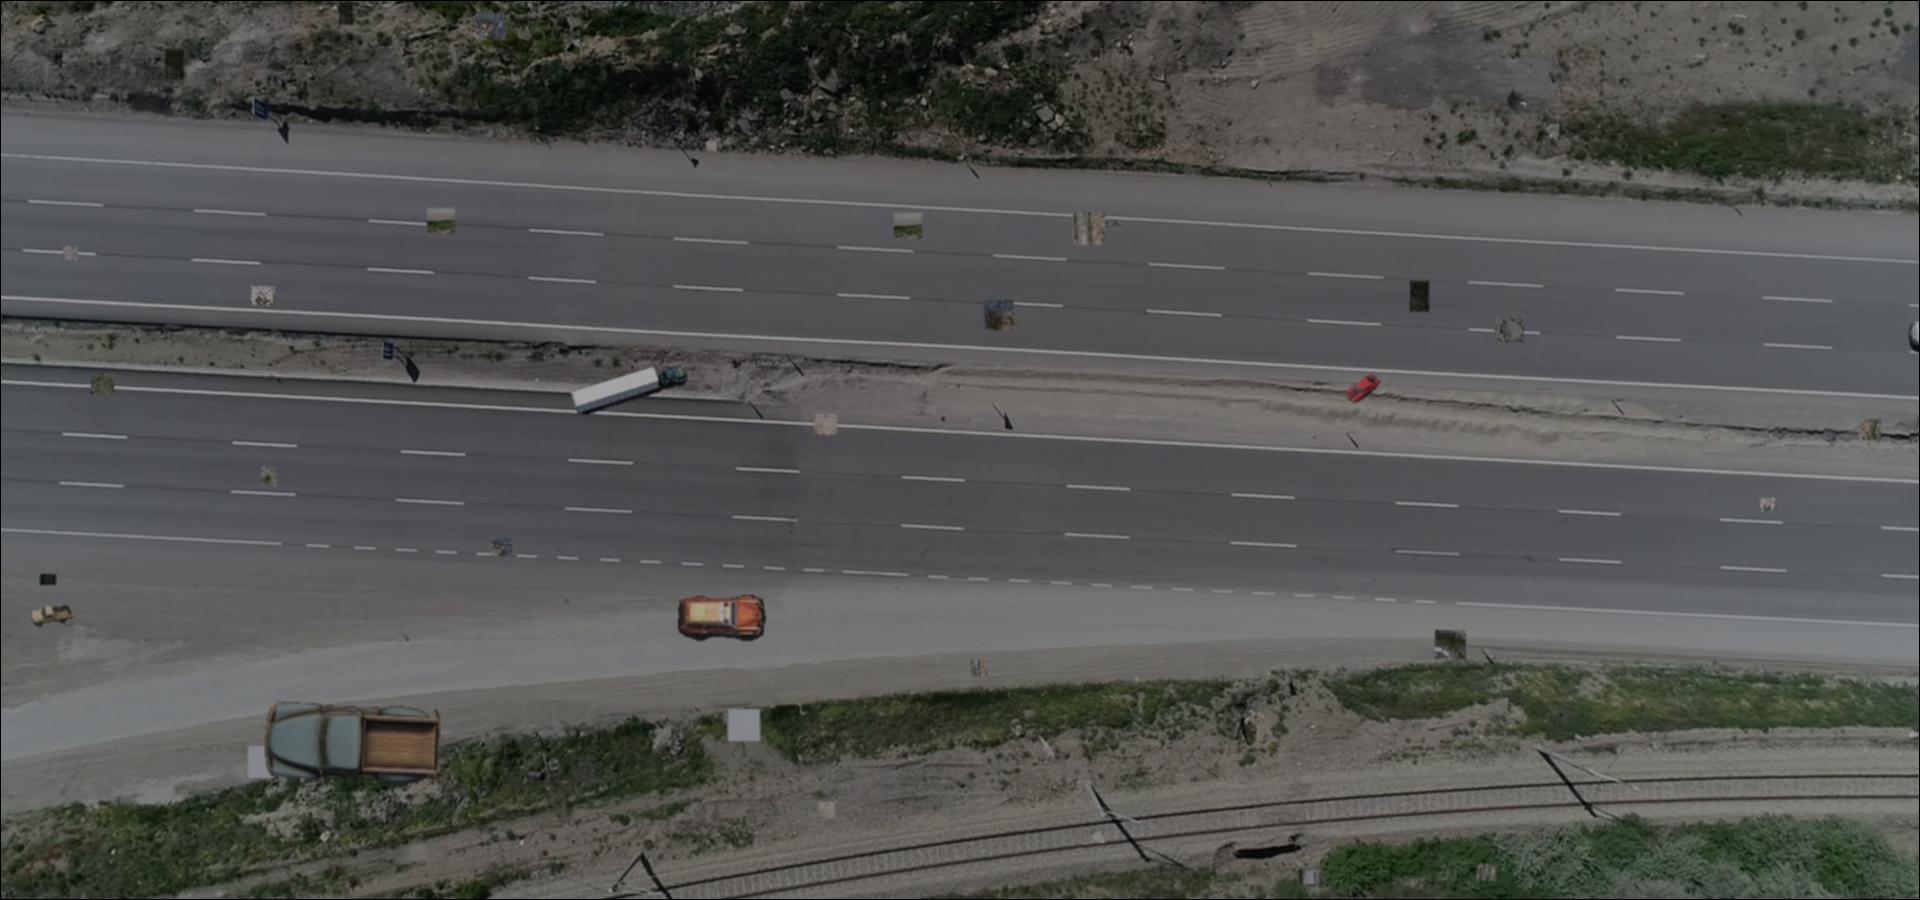arac: (264, 700, 441, 786), (568, 361, 688, 414), (677, 594, 770, 640), (1344, 373, 1381, 403), (29, 604, 73, 627)
